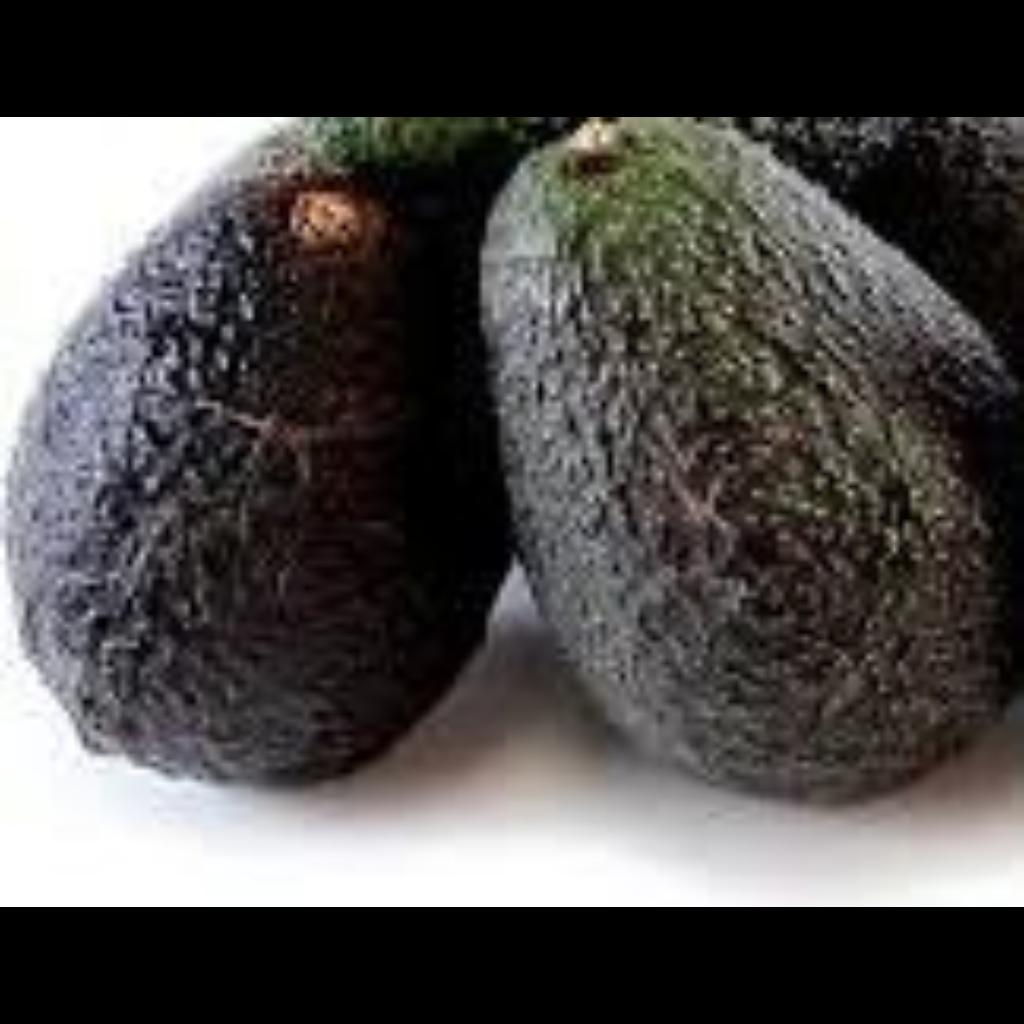antracnosis_fruto: (477, 130, 1002, 762), (35, 183, 452, 765)
